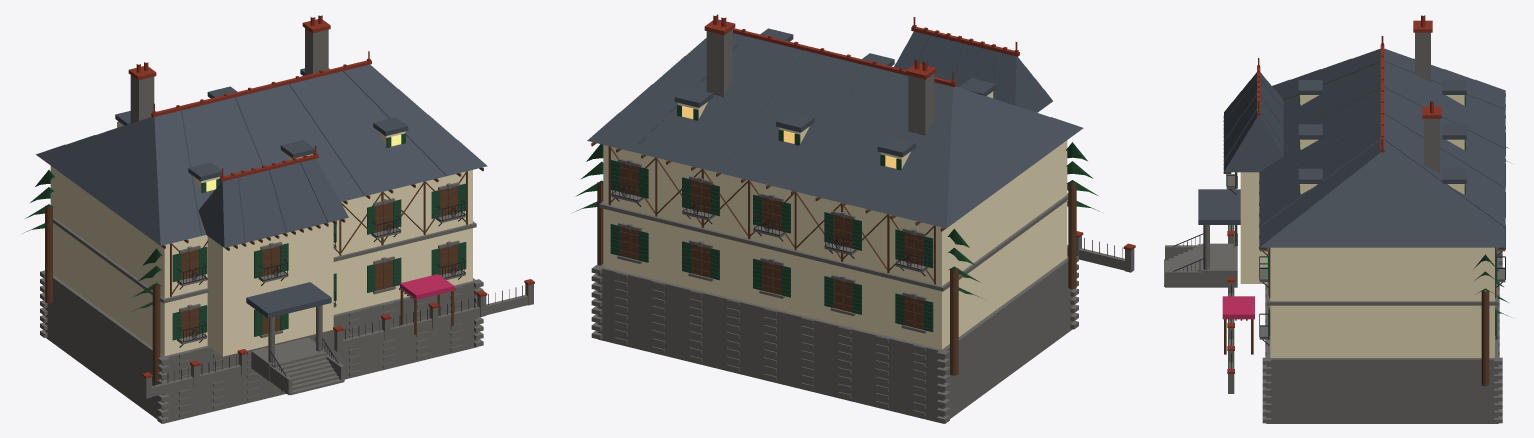
The model's file is fv_nd_04_mercure_nguyen_du_main_chateau_03.glb.
3 views of the same model, side by side, from view 1: azimuth 30°, elevation 25°; view 2: azimuth 150°, elevation 25°; view 3: azimuth 270°, elevation 25° (orthographic). The views are drawn at different scales.
Visible parts, largest first — view 1: marseille_corrugated_roof_tiles, granite_foundation_and_stairs, stucco_facade_and_dormers, colombage_timber_and_eaves, pine_green_louvered_shutters, ridge_cresting_and_chimneys, wrought_iron_balconies_3d, bougainvillea_pergola_clusters, pine_trees_and_garden_hedges; view 2: marseille_corrugated_roof_tiles, granite_foundation_and_stairs, stucco_facade_and_dormers, colombage_timber_and_eaves, pine_green_louvered_shutters, ridge_cresting_and_chimneys, pine_trees_and_garden_hedges, wrought_iron_balconies_3d; view 3: marseille_corrugated_roof_tiles, stucco_facade_and_dormers, granite_foundation_and_stairs, colombage_timber_and_eaves, ridge_cresting_and_chimneys, bougainvillea_pergola_clusters, wrought_iron_balconies_3d, pine_green_louvered_shutters.
Boxes of the visible parts, x1,y1,x2,y2 form: marseille_corrugated_roof_tiles: (36, 64, 487, 318); granite_foundation_and_stairs: (40, 28, 533, 423); stucco_facade_and_dormers: (50, 121, 472, 356); colombage_timber_and_eaves: (45, 167, 483, 382); pine_green_louvered_shutters: (117, 122, 466, 340); ridge_cresting_and_chimneys: (128, 15, 534, 378); wrought_iron_balconies_3d: (154, 200, 522, 386); bougainvillea_pergola_clusters: (400, 274, 454, 299); pine_trees_and_garden_hedges: (23, 170, 162, 311); marseille_corrugated_roof_tiles: (587, 28, 1083, 228); granite_foundation_and_stairs: (591, 29, 1134, 423); stucco_facade_and_dormers: (603, 91, 1067, 349); colombage_timber_and_eaves: (591, 142, 1076, 375); pine_green_louvered_shutters: (610, 92, 993, 332); ridge_cresting_and_chimneys: (704, 14, 1135, 250); pine_trees_and_garden_hedges: (571, 142, 1099, 298); wrought_iron_balconies_3d: (611, 178, 1122, 276); marseille_corrugated_roof_tiles: (1198, 48, 1505, 247); stucco_facade_and_dormers: (1240, 95, 1494, 357); granite_foundation_and_stairs: (1164, 32, 1505, 423); colombage_timber_and_eaves: (1223, 94, 1505, 386); ridge_cresting_and_chimneys: (1227, 15, 1441, 373); bougainvillea_pergola_clusters: (1222, 296, 1254, 319); wrought_iron_balconies_3d: (1173, 132, 1505, 368); pine_green_louvered_shutters: (1235, 95, 1497, 339).
Size of the model in its own units: 29.52 by 20.93 by 23.75.
